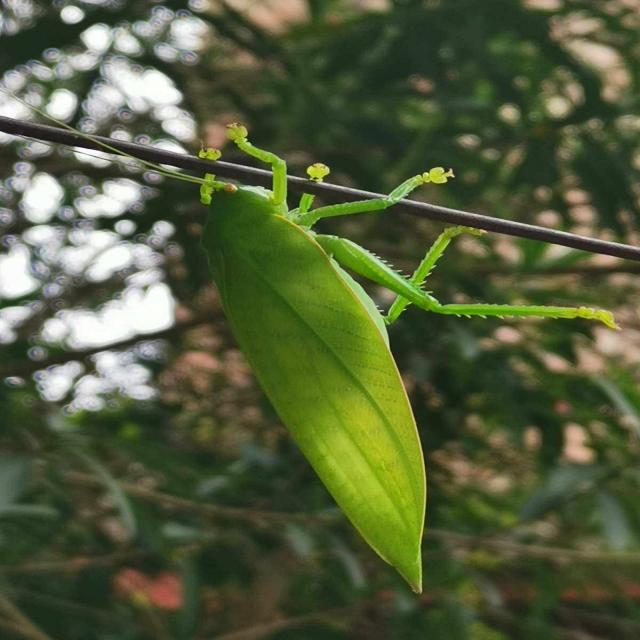ZhaMeng: (163, 135, 500, 598)
